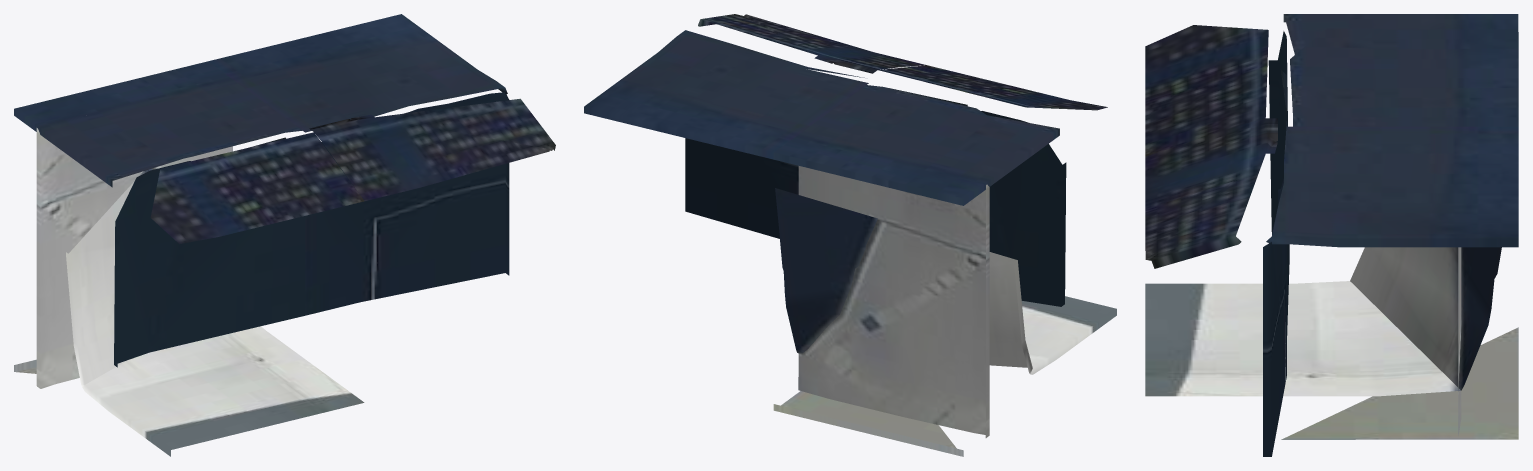
3 renders of one model, left to right at view 1: azimuth 30°, elevation 25°; view 2: azimuth 150°, elevation 25°; view 3: azimuth 270°, elevation 25°, orthographic. The views are drawn at different scales.
Visible parts, largest first — view 1: 30436272704370425730_1; view 2: 30436272704370425730_1; view 3: 30436272704370425730_1.
Part boxes in pixels (left/top/right/bottom): 30436272704370425730_1: left=14, top=14, right=555, bottom=456; 30436272704370425730_1: left=584, top=14, right=1116, bottom=456; 30436272704370425730_1: left=1145, top=14, right=1518, bottom=456.
Size of the model in its own units: 27.32 by 18.19 by 19.13.
Materials: 1 (1 with a texture image).
